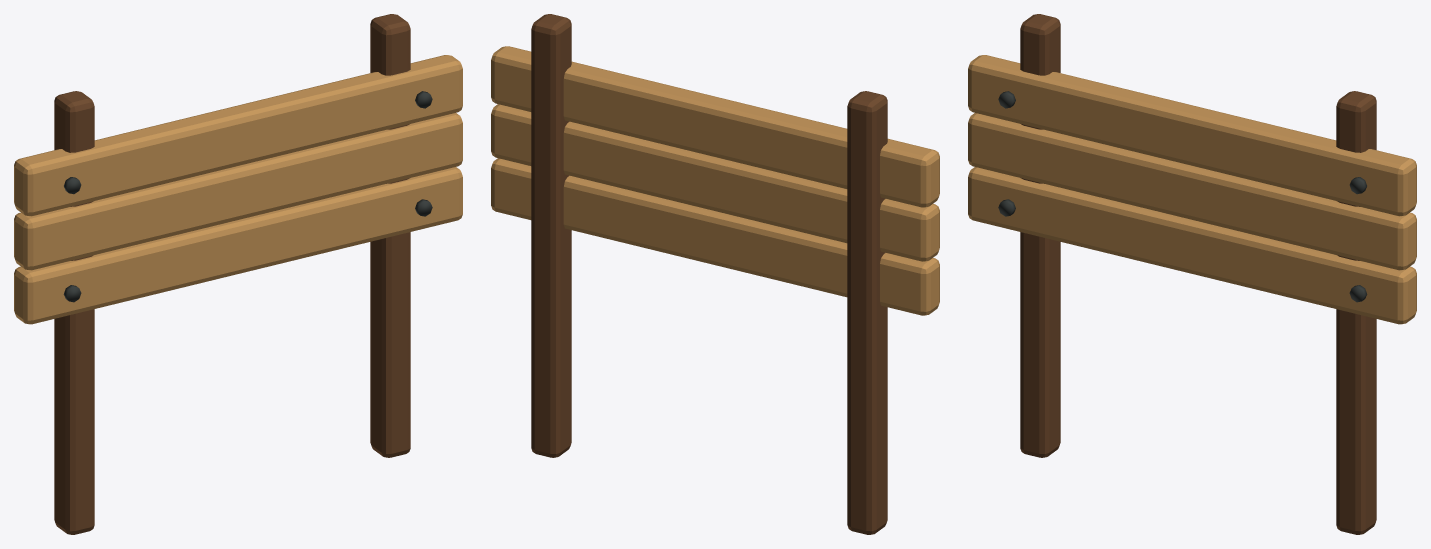
File: 10_signboard.glb
3 renders of one model, left to right at view 1: azimuth 30°, elevation 25°; view 2: azimuth 150°, elevation 25°; view 3: azimuth 330°, elevation 25°, orthographic.
Visible parts, largest first — view 1: Sign plank.002, Sign plank.001, Sign plank, Sign post, Sign post.001; view 2: Sign plank.002, Sign plank.001, Sign plank, Sign post, Sign post.001; view 3: Sign plank.002, Sign plank.001, Sign plank, Sign post.001, Sign post.
Part boxes in pixels (x1,y1,x2,y2): Sign plank.002: [14, 55, 462, 216]; Sign plank.001: [14, 113, 462, 270]; Sign plank: [14, 167, 462, 324]; Sign post: [54, 91, 94, 534]; Sign post.001: [370, 14, 410, 457]; Sign plank.002: [491, 46, 939, 207]; Sign plank.001: [491, 104, 939, 261]; Sign plank: [491, 158, 939, 315]; Sign post: [847, 91, 887, 534]; Sign post.001: [531, 14, 571, 457]; Sign plank.002: [968, 55, 1416, 216]; Sign plank.001: [968, 113, 1416, 270]; Sign plank: [968, 167, 1416, 324]; Sign post.001: [1336, 91, 1376, 534]; Sign post: [1020, 14, 1060, 457].
Bounding box in the file's own units: 1.7 × 1.6 × 0.176.
